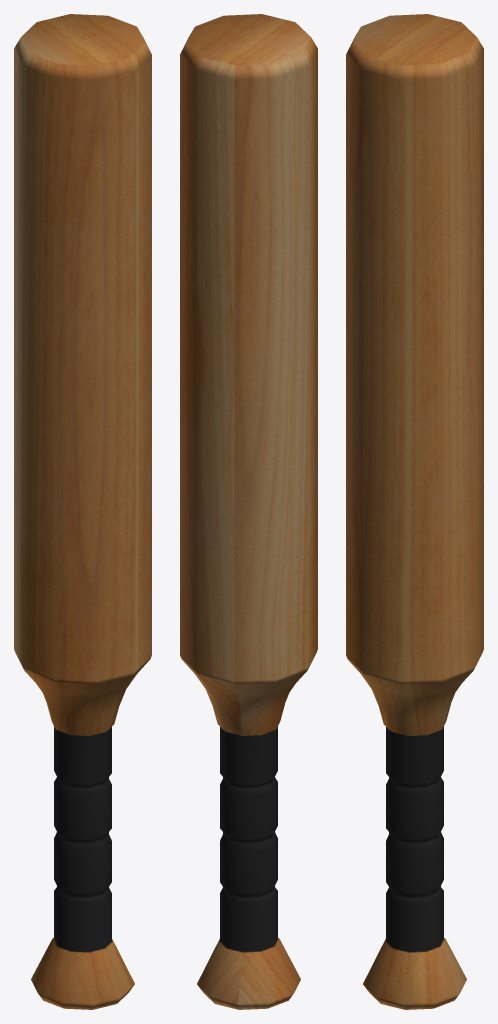
File: GayNangCap_1.fbx
3 renders of one model, left to right at view 1: azimuth 30°, elevation 25°; view 2: azimuth 150°, elevation 25°; view 3: azimuth 330°, elevation 25°, orthographic.
Visible parts, largest first — view 1: GayNangCap_1; view 2: GayNangCap_1; view 3: GayNangCap_1.
Boxes of the visible parts, bbox=[...] form: GayNangCap_1: bbox=[14, 14, 151, 1009]; GayNangCap_1: bbox=[180, 14, 317, 1009]; GayNangCap_1: bbox=[346, 14, 483, 1009].
Bounding box in the file's own units: 4.75 × 36.02 × 4.52.
1 material, 1 textured.
